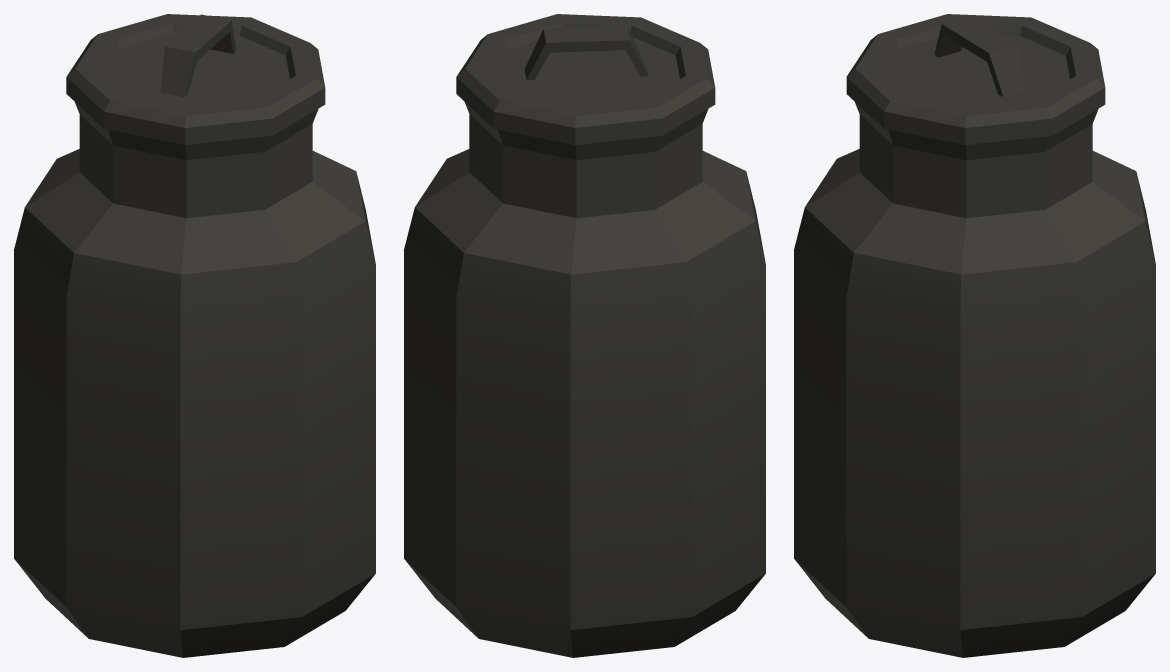
File: farm_milk.glb
3 views of the same model, side by side, from view 1: azimuth 30°, elevation 25°; view 2: azimuth 150°, elevation 25°; view 3: azimuth 270°, elevation 25° (orthographic).
Parts seen in each view (by area): view 1: farm_milk; view 2: farm_milk; view 3: farm_milk.
Part boxes in pixels (box(x1,y1,x2,y2)): farm_milk: box(14, 14, 375, 657); farm_milk: box(404, 14, 765, 657); farm_milk: box(794, 14, 1155, 657).
Size of the model in its own units: 0.4349 by 0.7408 by 0.4341.
1 material, 1 textured.
